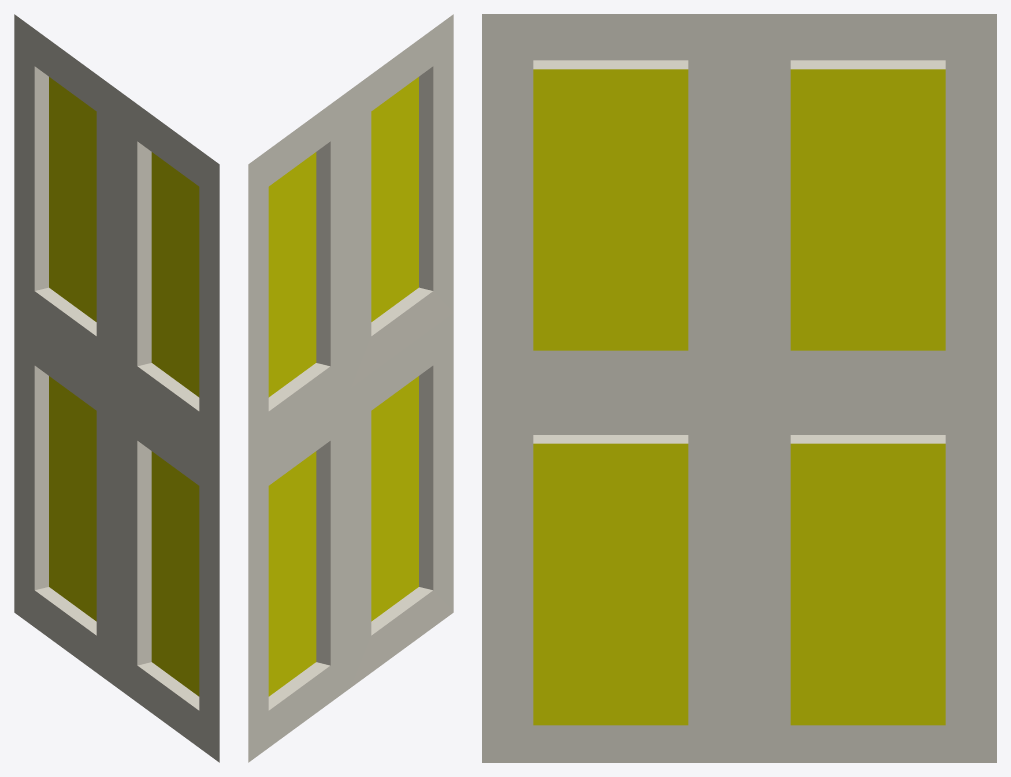
Rendered from Janela4.fbx.
The picture shows the model from 3 angles, left to right: view 1: azimuth 30°, elevation 25°; view 2: azimuth 150°, elevation 25°; view 3: azimuth 270°, elevation 25°; orthographic projection. The views are drawn at different scales.
Visible parts, largest first — view 1: Cube.001; view 2: Cube.001; view 3: Cube.001.
Boxes of the visible parts, left/top/right/bottom form: Cube.001: left=14, top=14, right=219, bottom=762; Cube.001: left=248, top=14, right=453, bottom=762; Cube.001: left=482, top=14, right=996, bottom=762.
Bounding box in the file's own units: 4.67 × 186 × 116.
